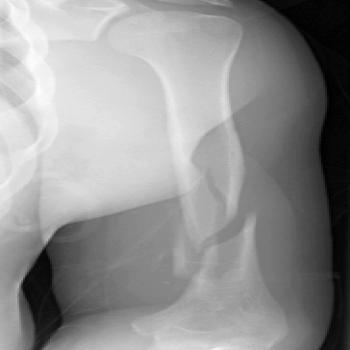Fracture: (178, 209, 279, 262)
